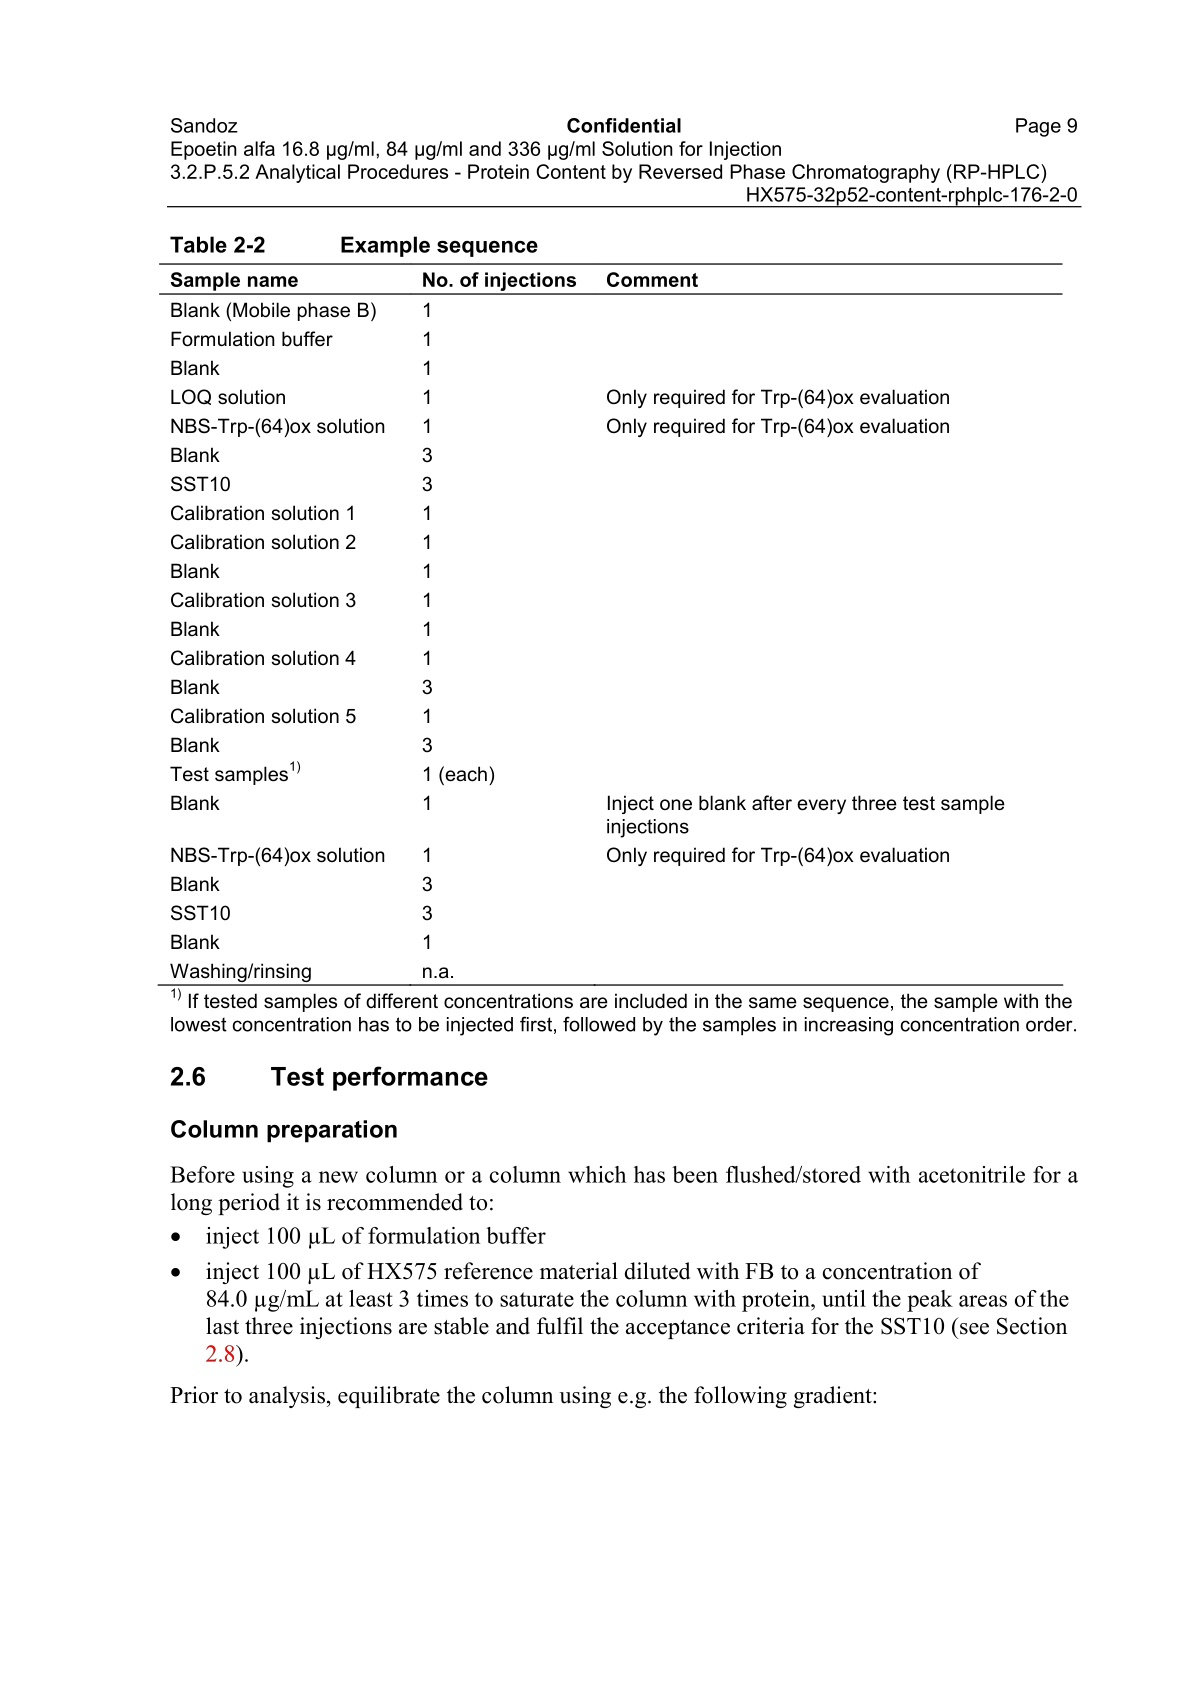partial_lined: (159, 260, 1067, 987)
